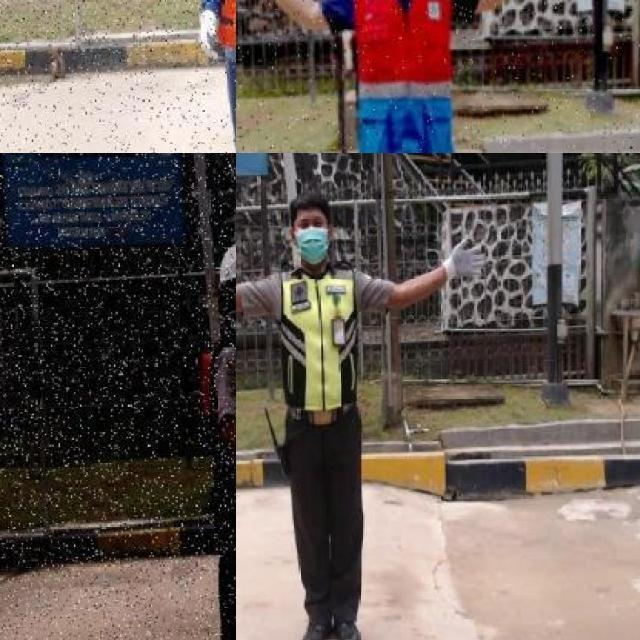apron: (442, 236, 487, 285), (196, 4, 222, 63)
